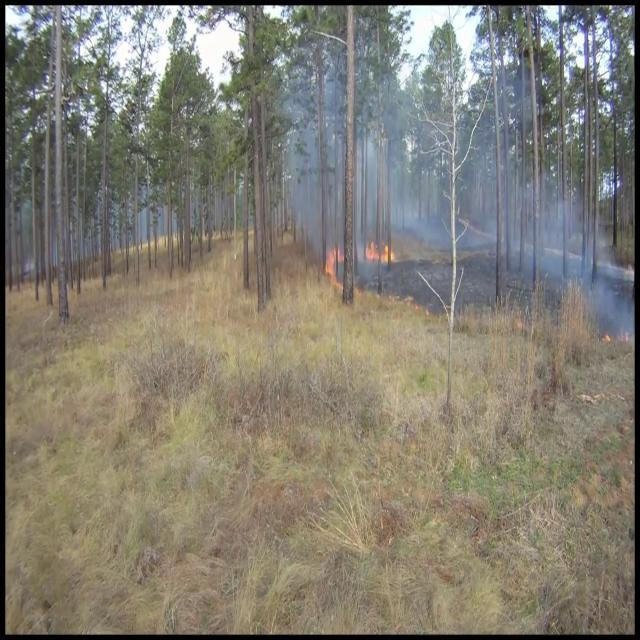Fire: (364, 232, 397, 268), (323, 242, 341, 286)
Smoke: (484, 138, 632, 338), (286, 58, 422, 237)
